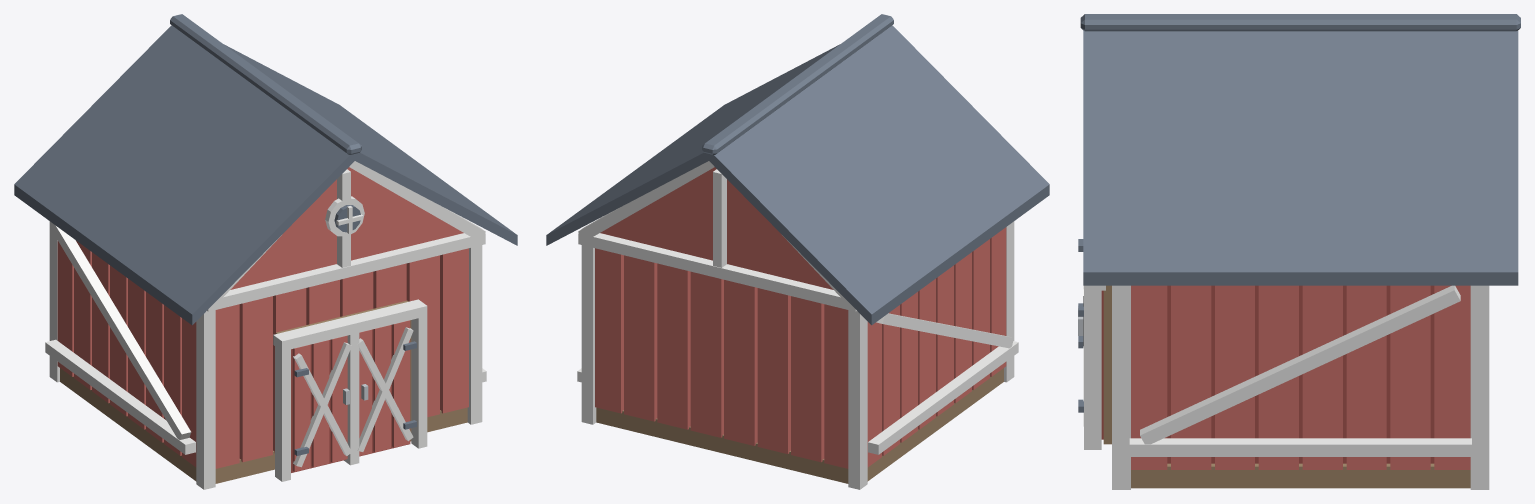
Rendered from prop_barn.glb.
3 views of the same model, side by side, from view 1: azimuth 30°, elevation 25°; view 2: azimuth 150°, elevation 25°; view 3: azimuth 270°, elevation 25° (orthographic). The views are drawn at different scales.
Visible parts, largest first — view 1: prop_barn; view 2: prop_barn; view 3: prop_barn.
Part boxes in pixels (left/top/right/bottom): prop_barn: left=14, top=14, right=517, bottom=489; prop_barn: left=546, top=14, right=1049, bottom=489; prop_barn: left=1078, top=14, right=1520, bottom=489.
Size of the model in its own units: 0.878 by 0.824 by 0.847.
